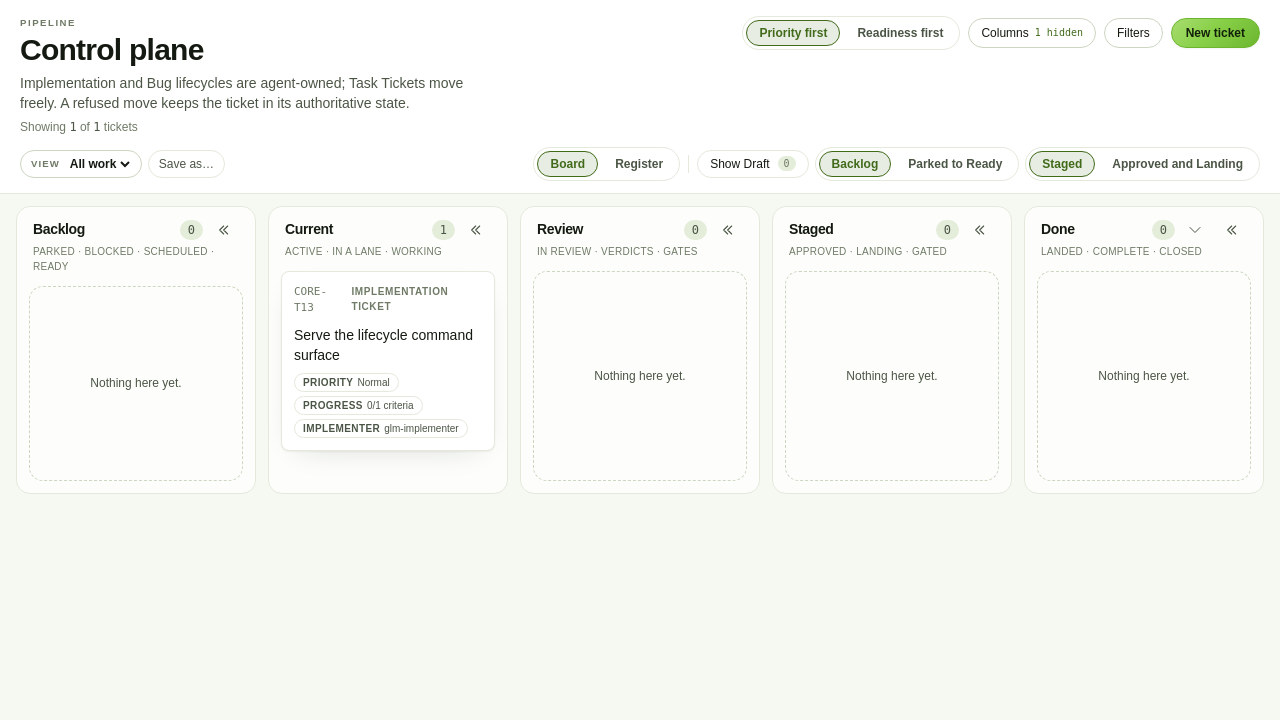
Test: the drawer footer actions › emergency recovery acts only after a confirmation carrying operator and reason
This screenshot has width=1280, height=720.
Click the button with test id "open-ticket-8". click: click(388, 345)
box: left=294, top=325, right=482, bottom=365
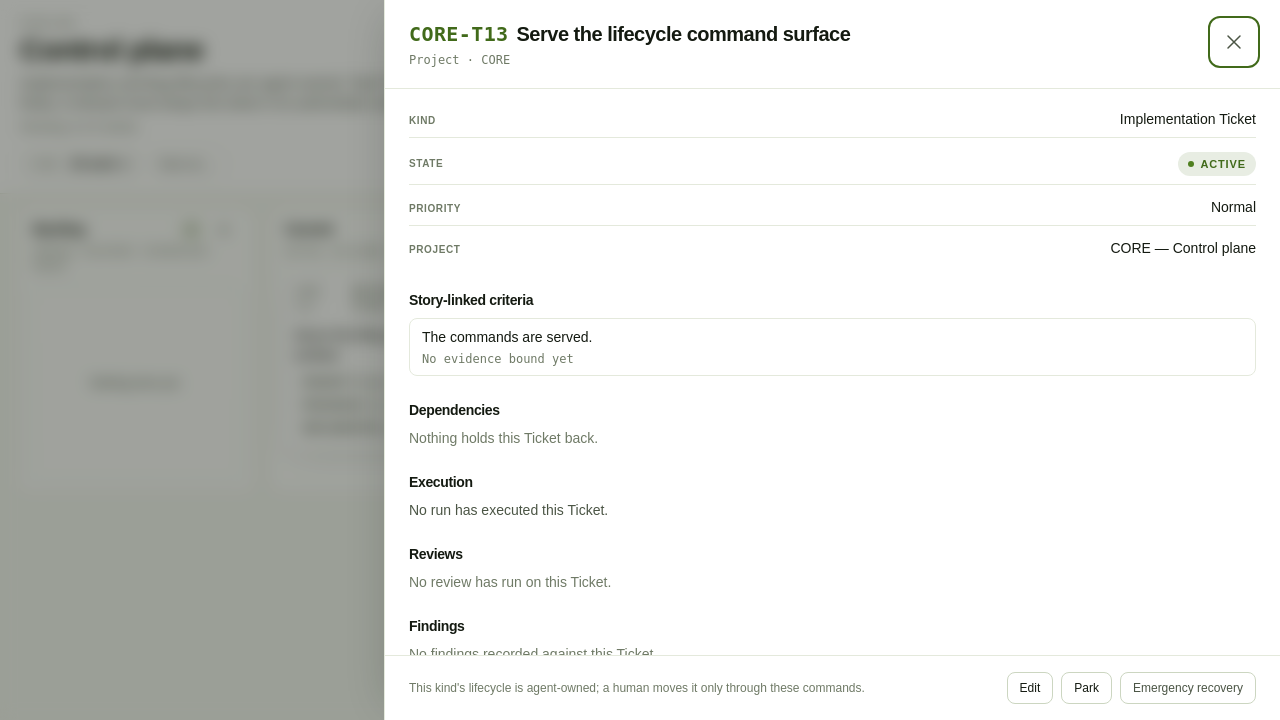
Click the button "Emergency recovery". click: click(1188, 688)
box: left=1120, top=672, right=1256, bottom=704
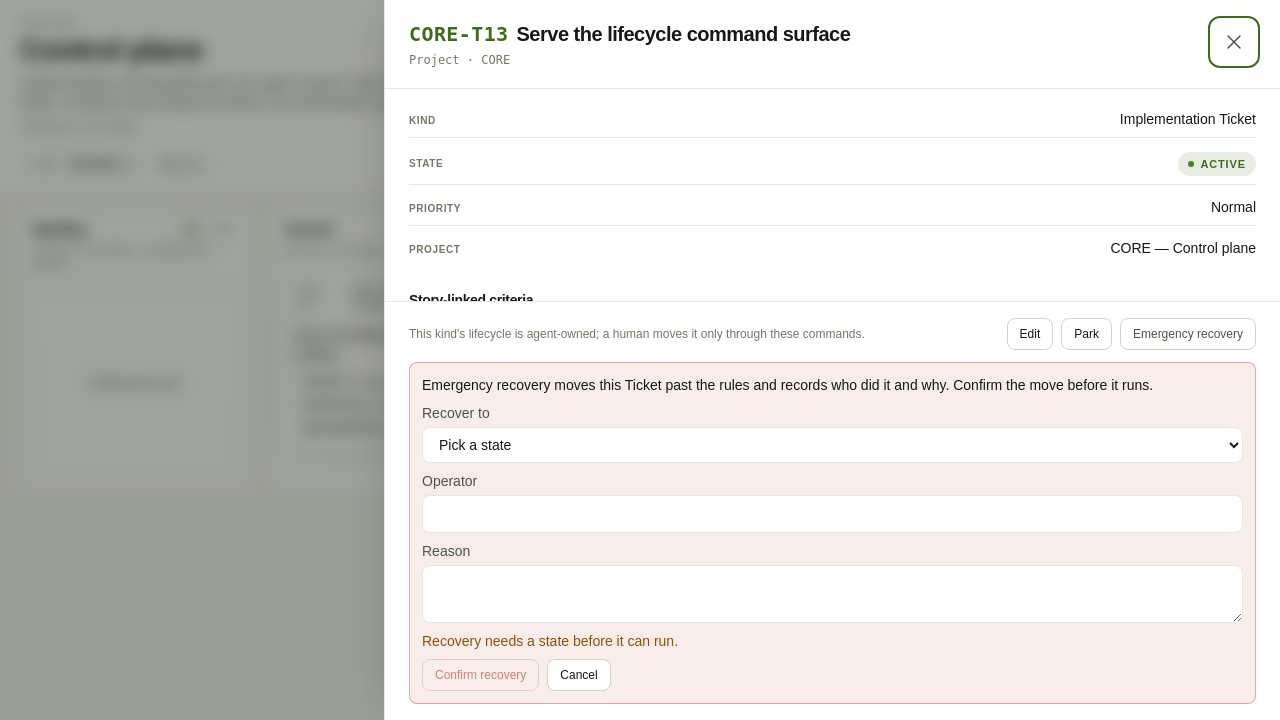
Result: the form with test id "recovery-confirm" is shown at left=409, top=362, right=1256, bottom=704
Result: the button with test id "recovery-submit" is disabled at left=422, top=659, right=539, bottom=691
Select "Ready" in the dropdown labelled "Recover to". click: (832, 445)
box: left=422, top=427, right=1243, bottom=463
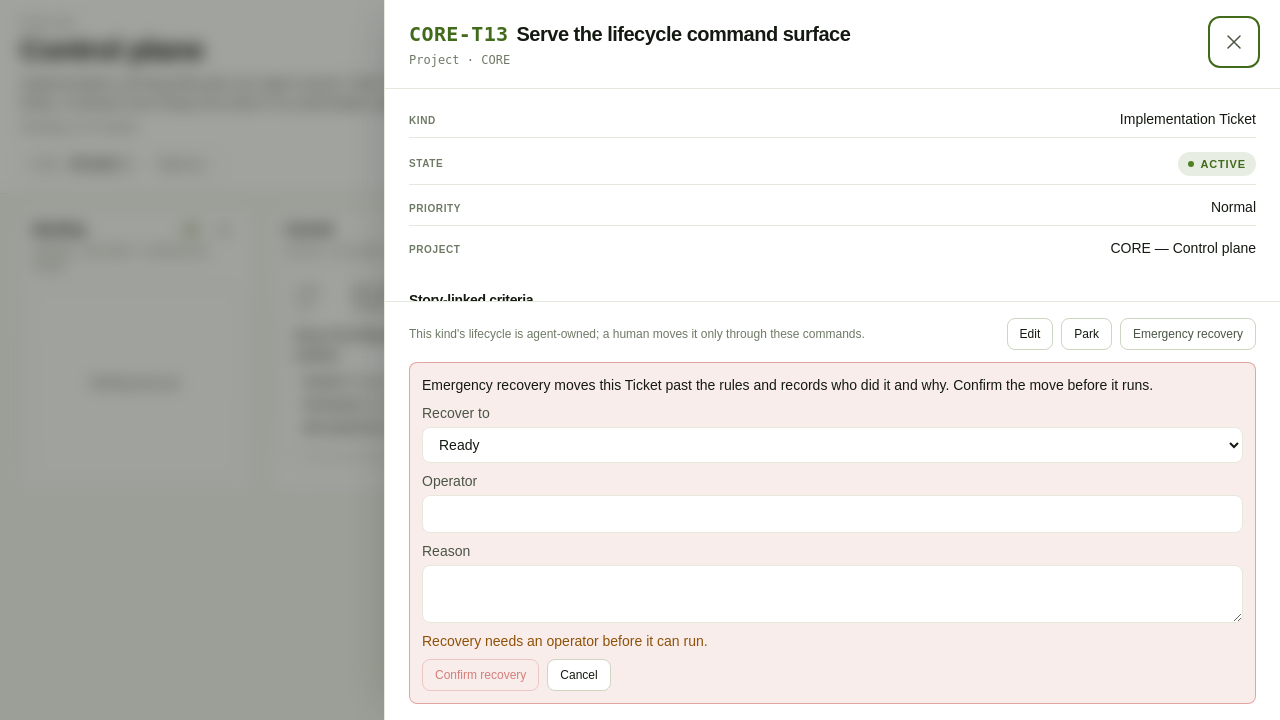
Type "Sid" into the field labelled "Operator". click: (832, 514)
box: left=422, top=495, right=1243, bottom=533
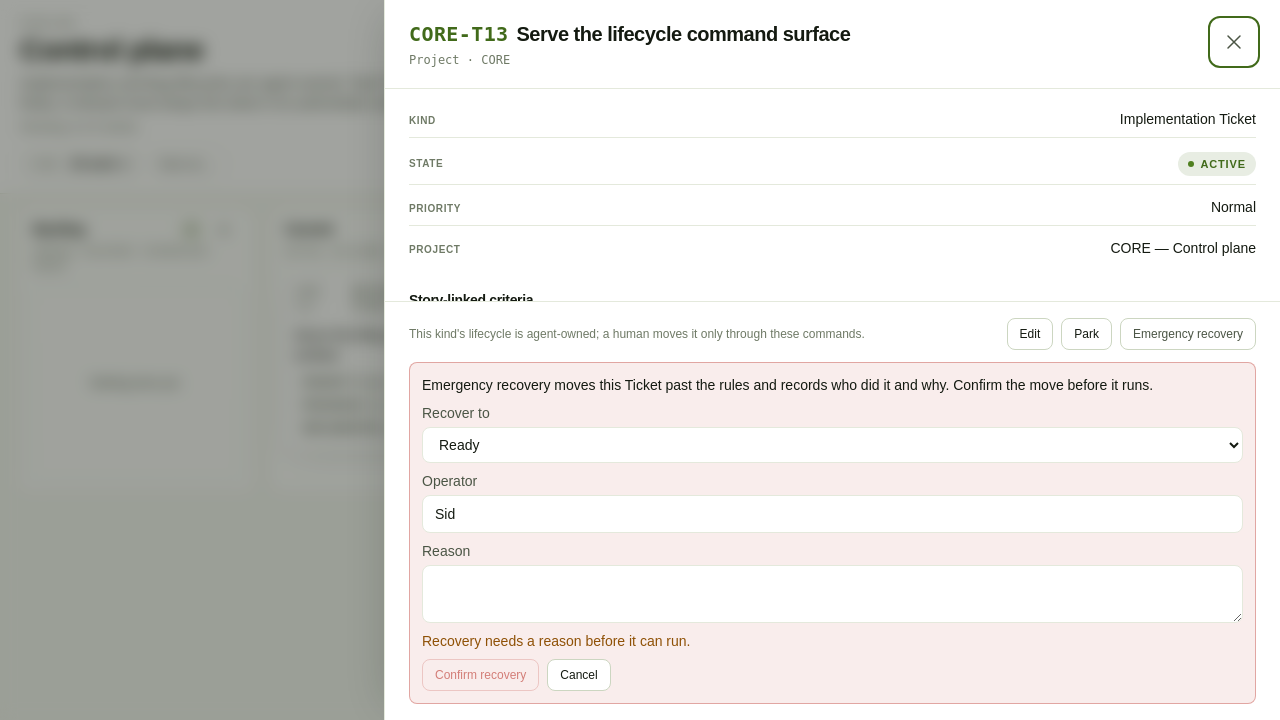
Type "The run died holding the lane." into the text box labelled "Reason". click: (832, 594)
box: left=422, top=565, right=1243, bottom=623
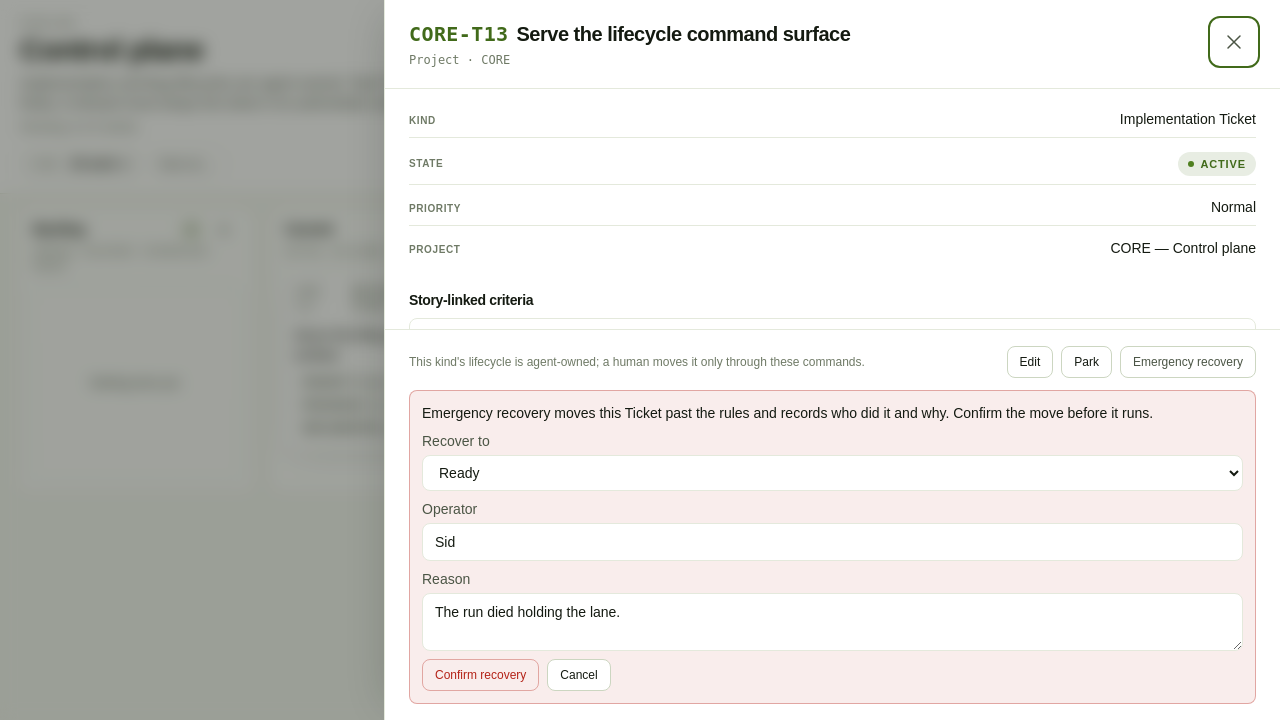
Result: the button with test id "recovery-submit" is enabled
Click the button with test id "recovery-submit". click: click(481, 675)
box: left=422, top=659, right=539, bottom=691
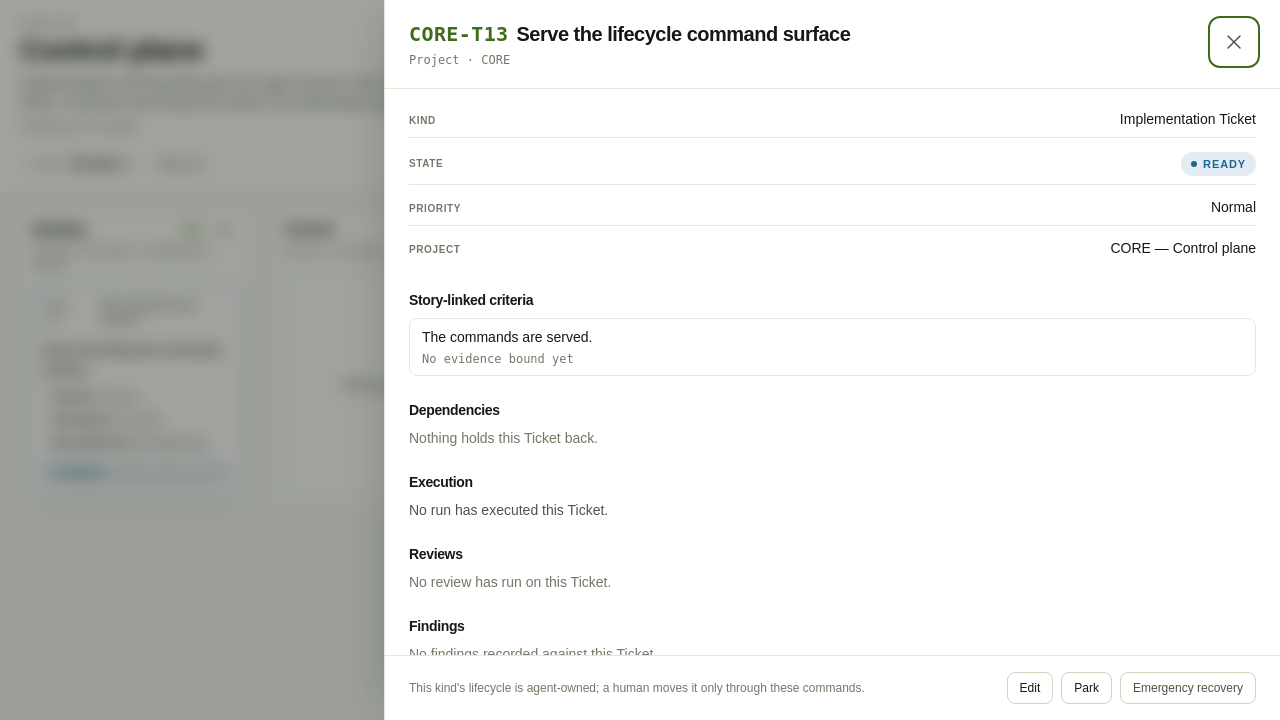
Result: the form with test id "recovery-confirm" is gone
